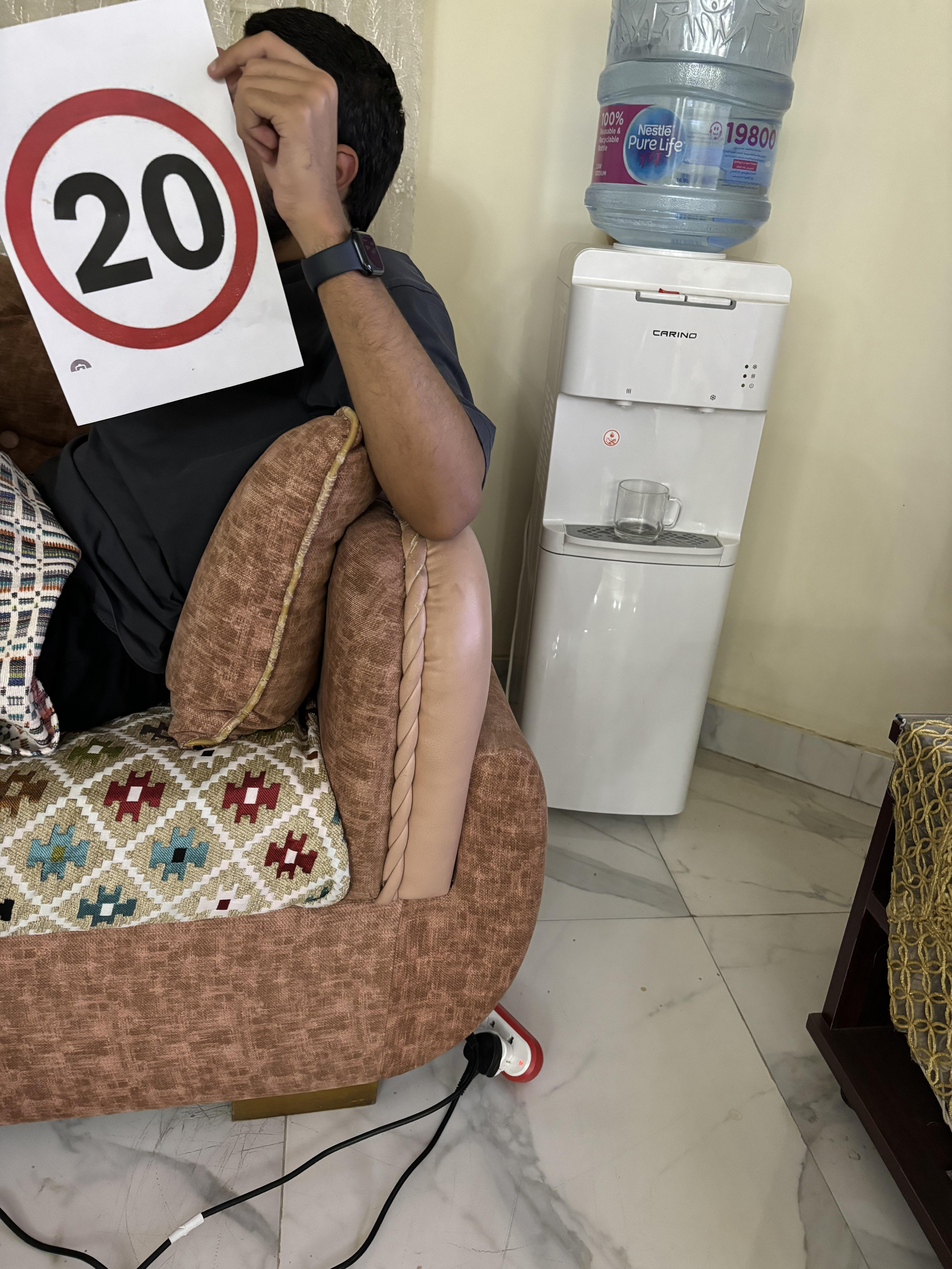20-Speed: (5, 92, 266, 335)
